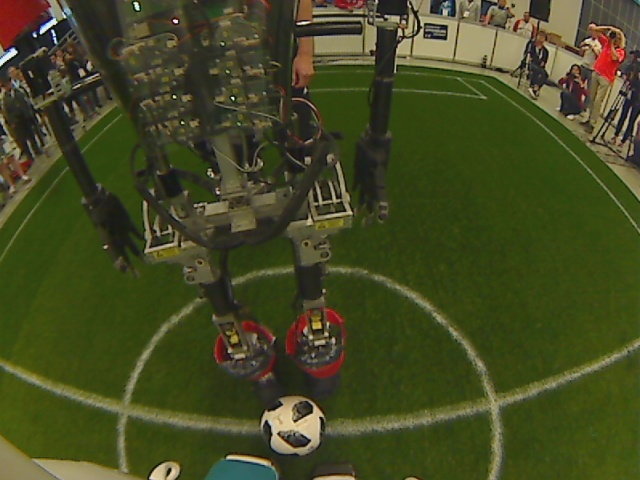ball: (259, 397, 328, 461)
